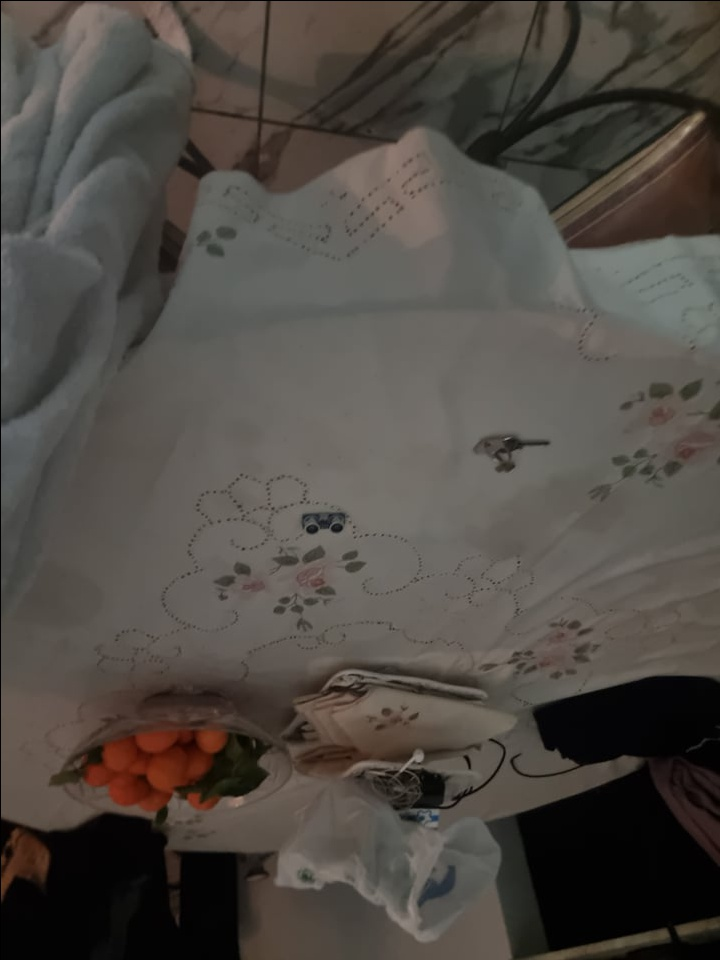SENSOR: (301, 510, 348, 533)
